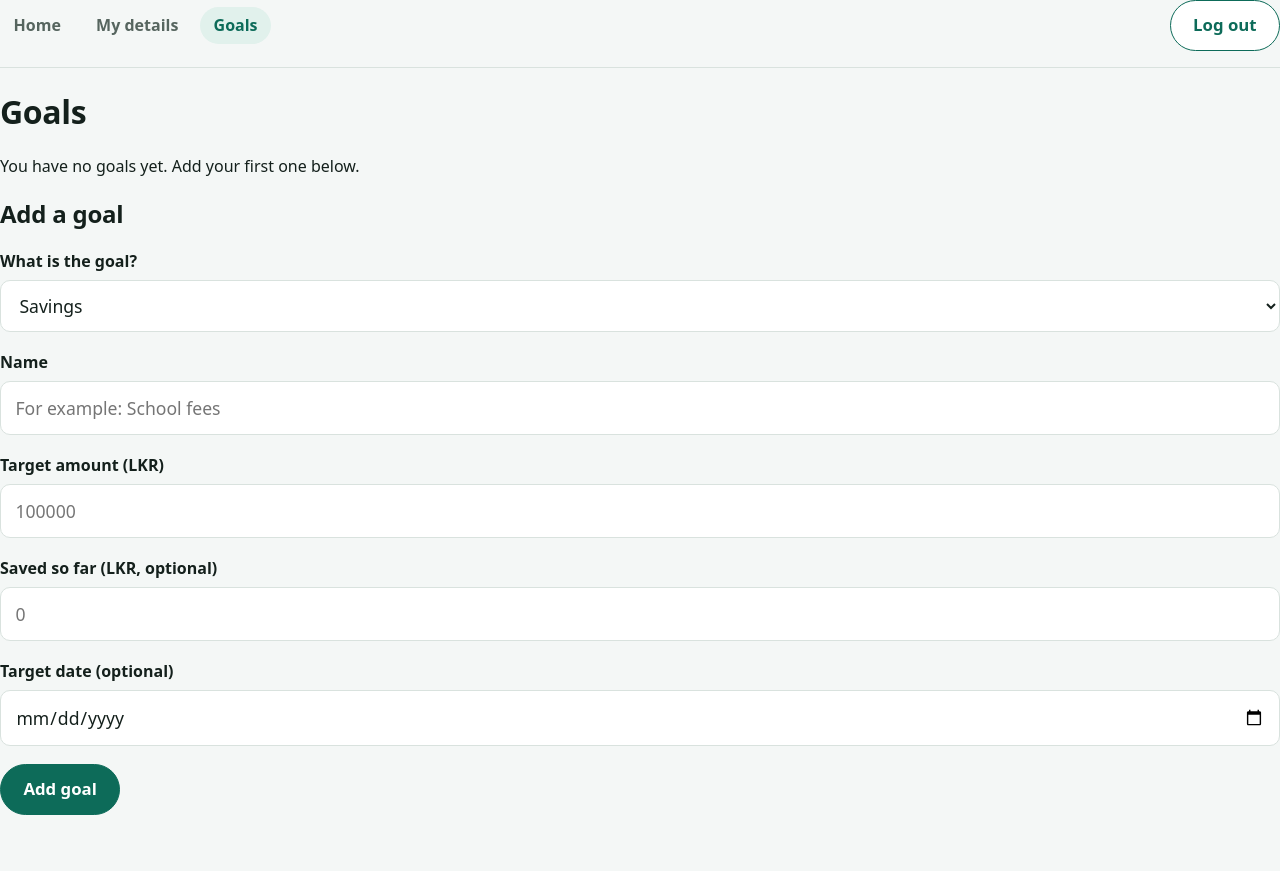
/goals › creates a goal and reloads the list
Expected: the text "You have no goals yet. Add your first one below." is shown, [0,155,360,177]
Type "School fees" into the field labelled "Name" at [640, 408], box [0,381,1279,435]
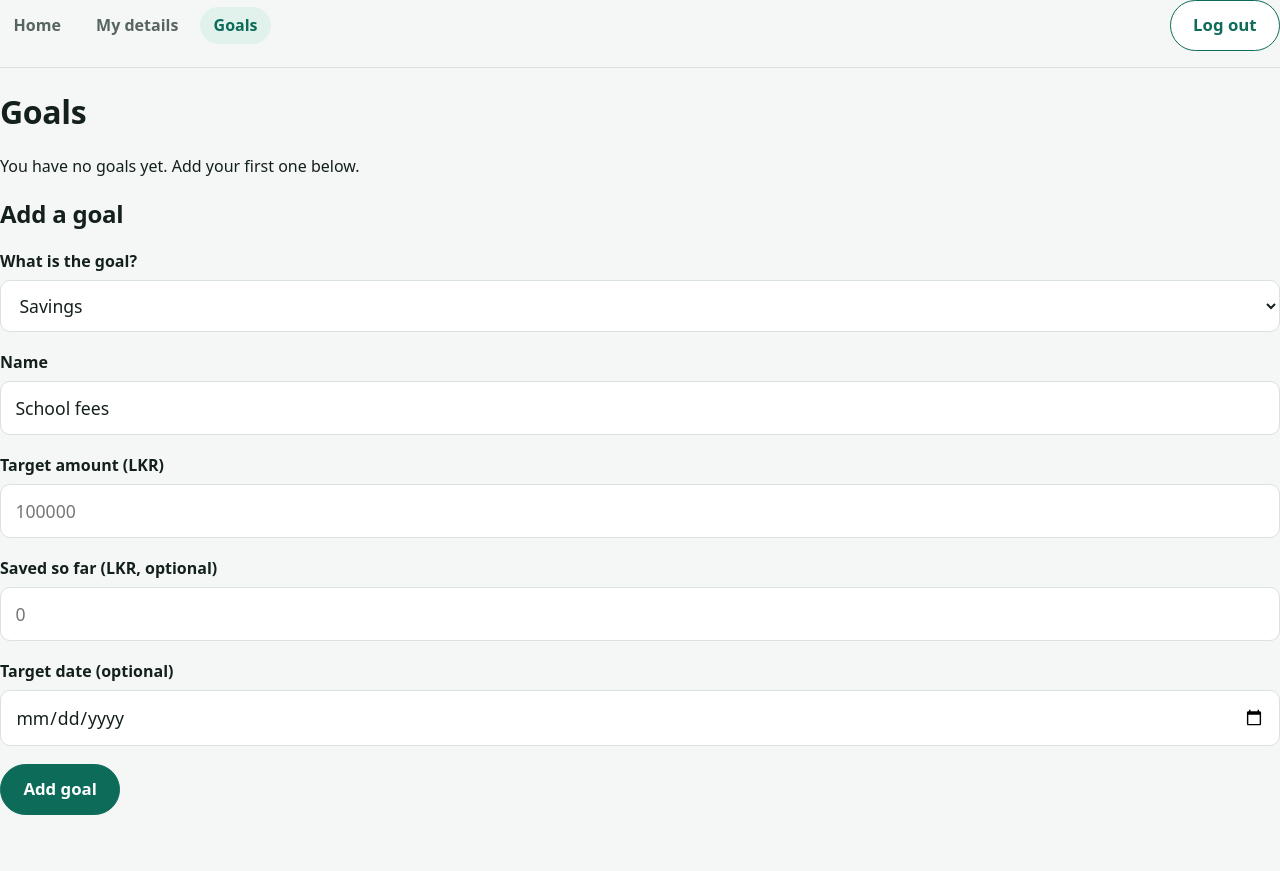
Type "120,000" into the field labelled "Target amount (LKR)" at [640, 511], box [0,484,1279,538]
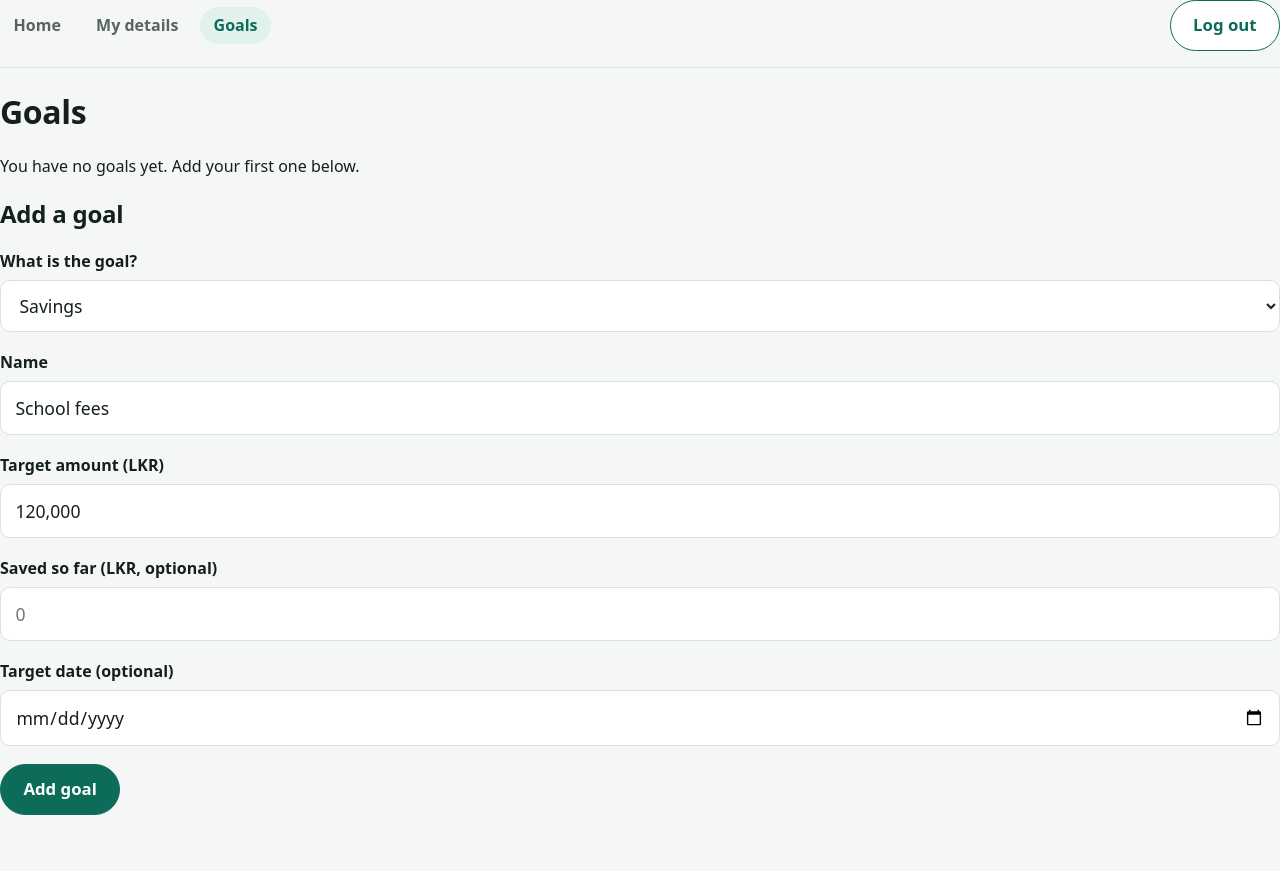
Click the button "Add goal" at [60, 789], box [0,764,120,815]
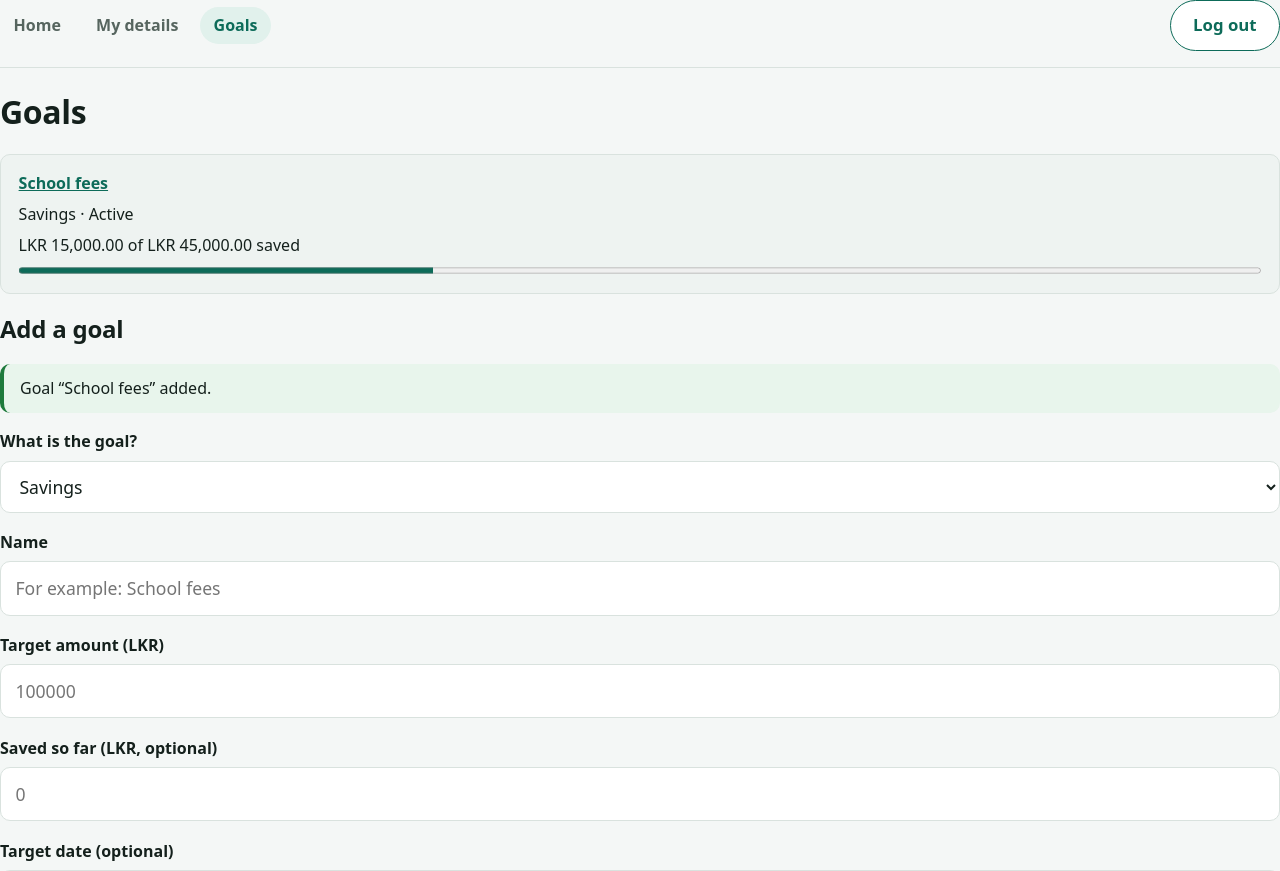
Result: the text "Goal “School fees” added." is shown at [0,364,1279,414]
Result: the link "School fees" is shown at [19,172,108,194]
